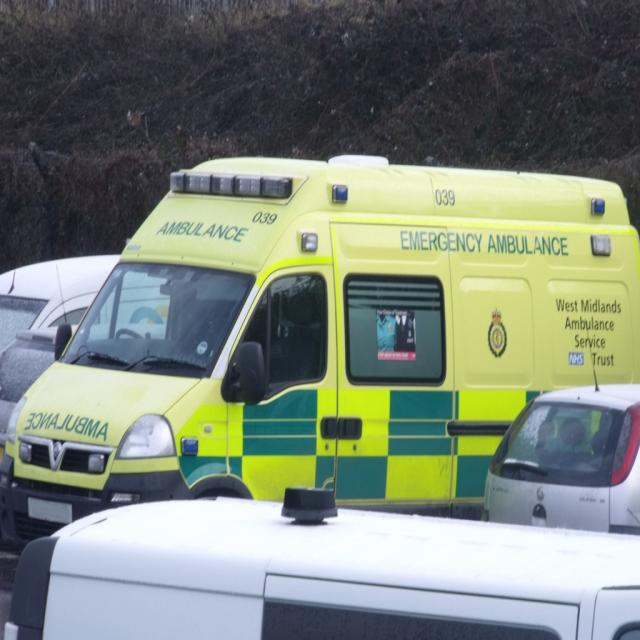Ambulance: (1, 156, 640, 554)
